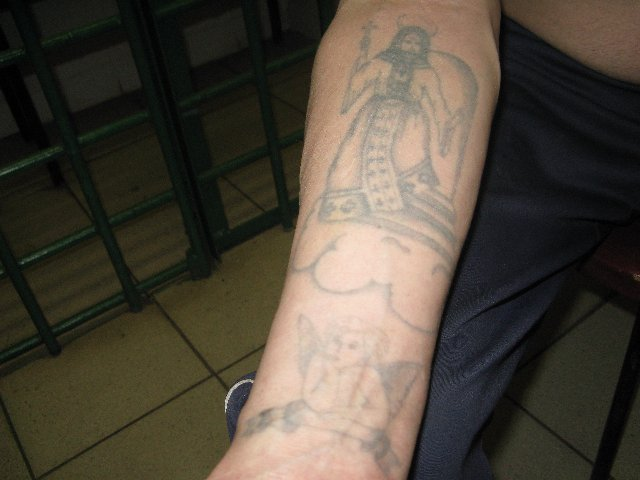tatu1_angel: (359, 15, 468, 270)
